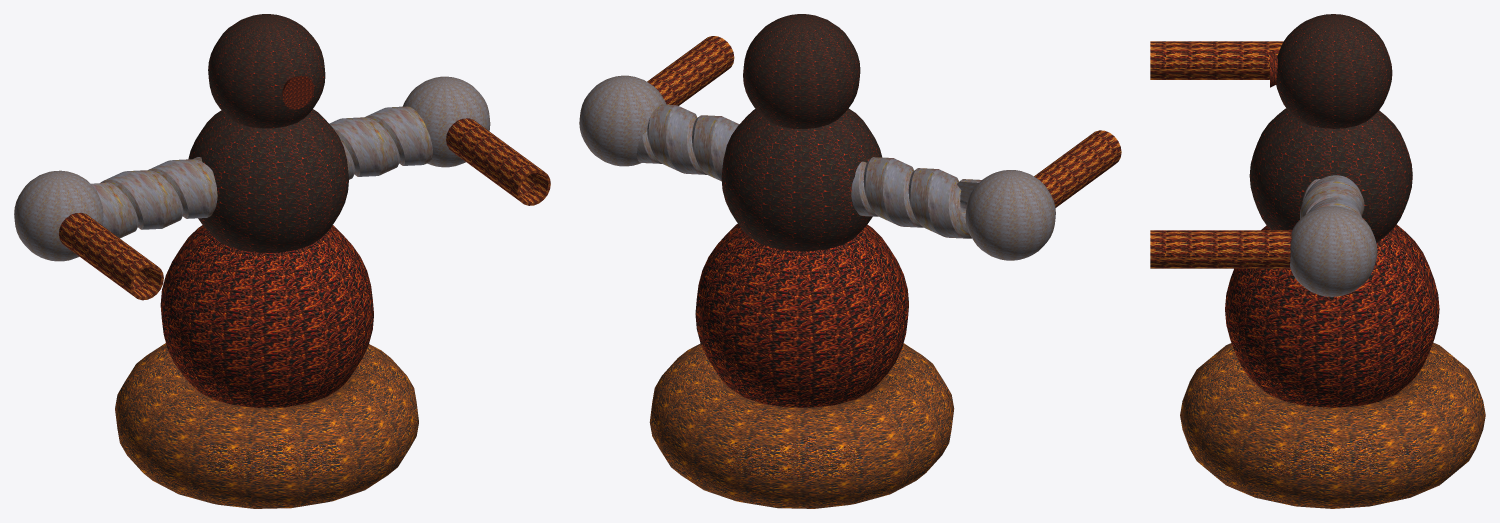
Rendered from Lava Gunner.fbx.
3 renders of one model, left to right at view 1: azimuth 30°, elevation 25°; view 2: azimuth 150°, elevation 25°; view 3: azimuth 270°, elevation 25°, orthographic.
Visible parts, largest first — view 1: pTorus1, pSphere4, pSphere3, pSphere5, pHelix1, pHelix2, pSphere1, pPipe1, pPipe2, pSphere2, pCone1; view 2: pTorus1, pSphere4, pSphere3, pSphere5, pHelix1, pSphere1, pSphere2, pHelix2, pPipe1, pPipe2; view 3: pTorus1, pSphere4, pSphere3, pSphere5, pSphere2, pPipe2, pPipe1, pHelix2.
Part boxes in pixels (x1,y1,x2,y2): pTorus1: [115, 343, 418, 508]; pSphere4: [160, 225, 373, 407]; pSphere3: [188, 109, 348, 253]; pSphere5: [208, 14, 325, 128]; pHelix1: [91, 157, 217, 238]; pHelix2: [329, 106, 432, 179]; pSphere1: [14, 170, 103, 261]; pPipe1: [59, 212, 163, 300]; pPipe2: [446, 118, 550, 205]; pSphere2: [402, 76, 490, 167]; pCone1: [282, 76, 314, 109]; pTorus1: [649, 343, 954, 508]; pSphere4: [695, 223, 908, 407]; pSphere3: [721, 108, 882, 251]; pSphere5: [743, 14, 860, 128]; pHelix1: [851, 157, 981, 238]; pSphere1: [965, 170, 1055, 260]; pSphere2: [579, 75, 666, 166]; pHelix2: [636, 104, 739, 181]; pPipe1: [1034, 130, 1121, 207]; pPipe2: [647, 36, 734, 105]; pTorus1: [1180, 342, 1485, 508]; pSphere4: [1225, 224, 1439, 407]; pSphere3: [1249, 108, 1412, 242]; pSphere5: [1276, 14, 1392, 128]; pSphere2: [1290, 206, 1377, 296]; pPipe2: [1150, 230, 1292, 268]; pPipe1: [1150, 41, 1283, 79]; pHelix2: [1300, 175, 1364, 219].
Bounding box in the file's own units: 9.09 × 8.27 × 5.69.
